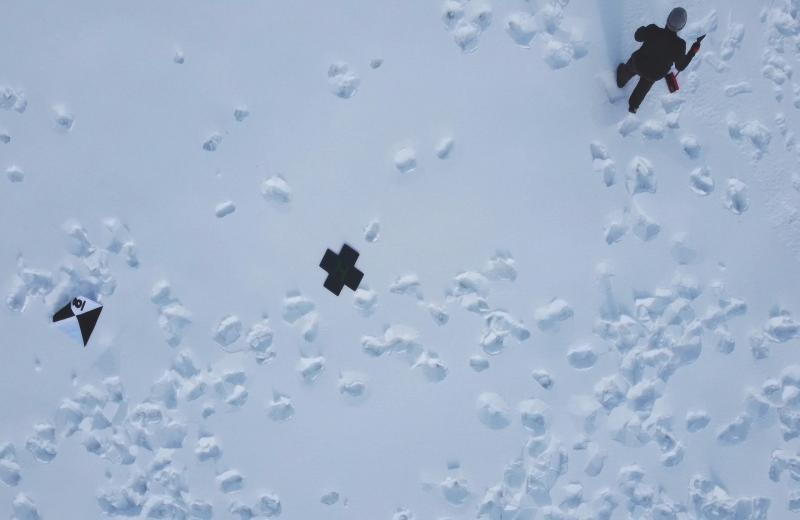Cross: (320, 242, 364, 297)
